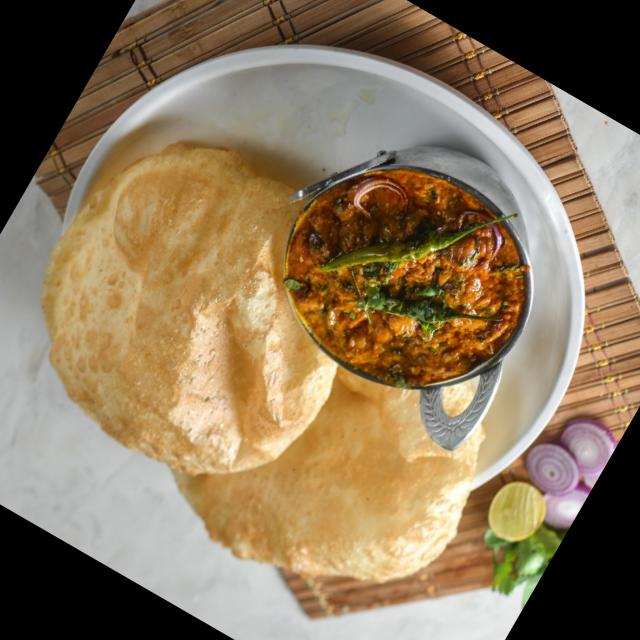Bhatura: (0, 91, 570, 640)
